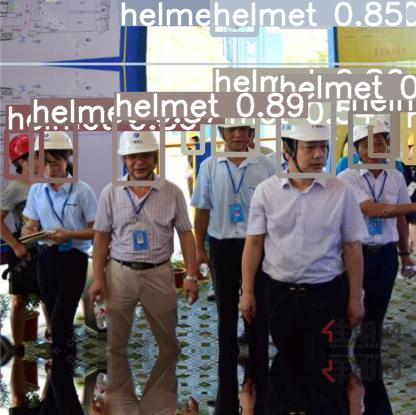helmet: (278, 99, 333, 175), (114, 117, 162, 183), (213, 93, 257, 154), (31, 123, 75, 180), (350, 111, 392, 166), (6, 130, 41, 177), (212, 0, 256, 34), (280, 0, 330, 26), (370, 108, 397, 155), (353, 0, 397, 18), (183, 124, 202, 152), (347, 0, 377, 15), (405, 128, 416, 162), (119, 0, 155, 8), (276, 0, 297, 11)
